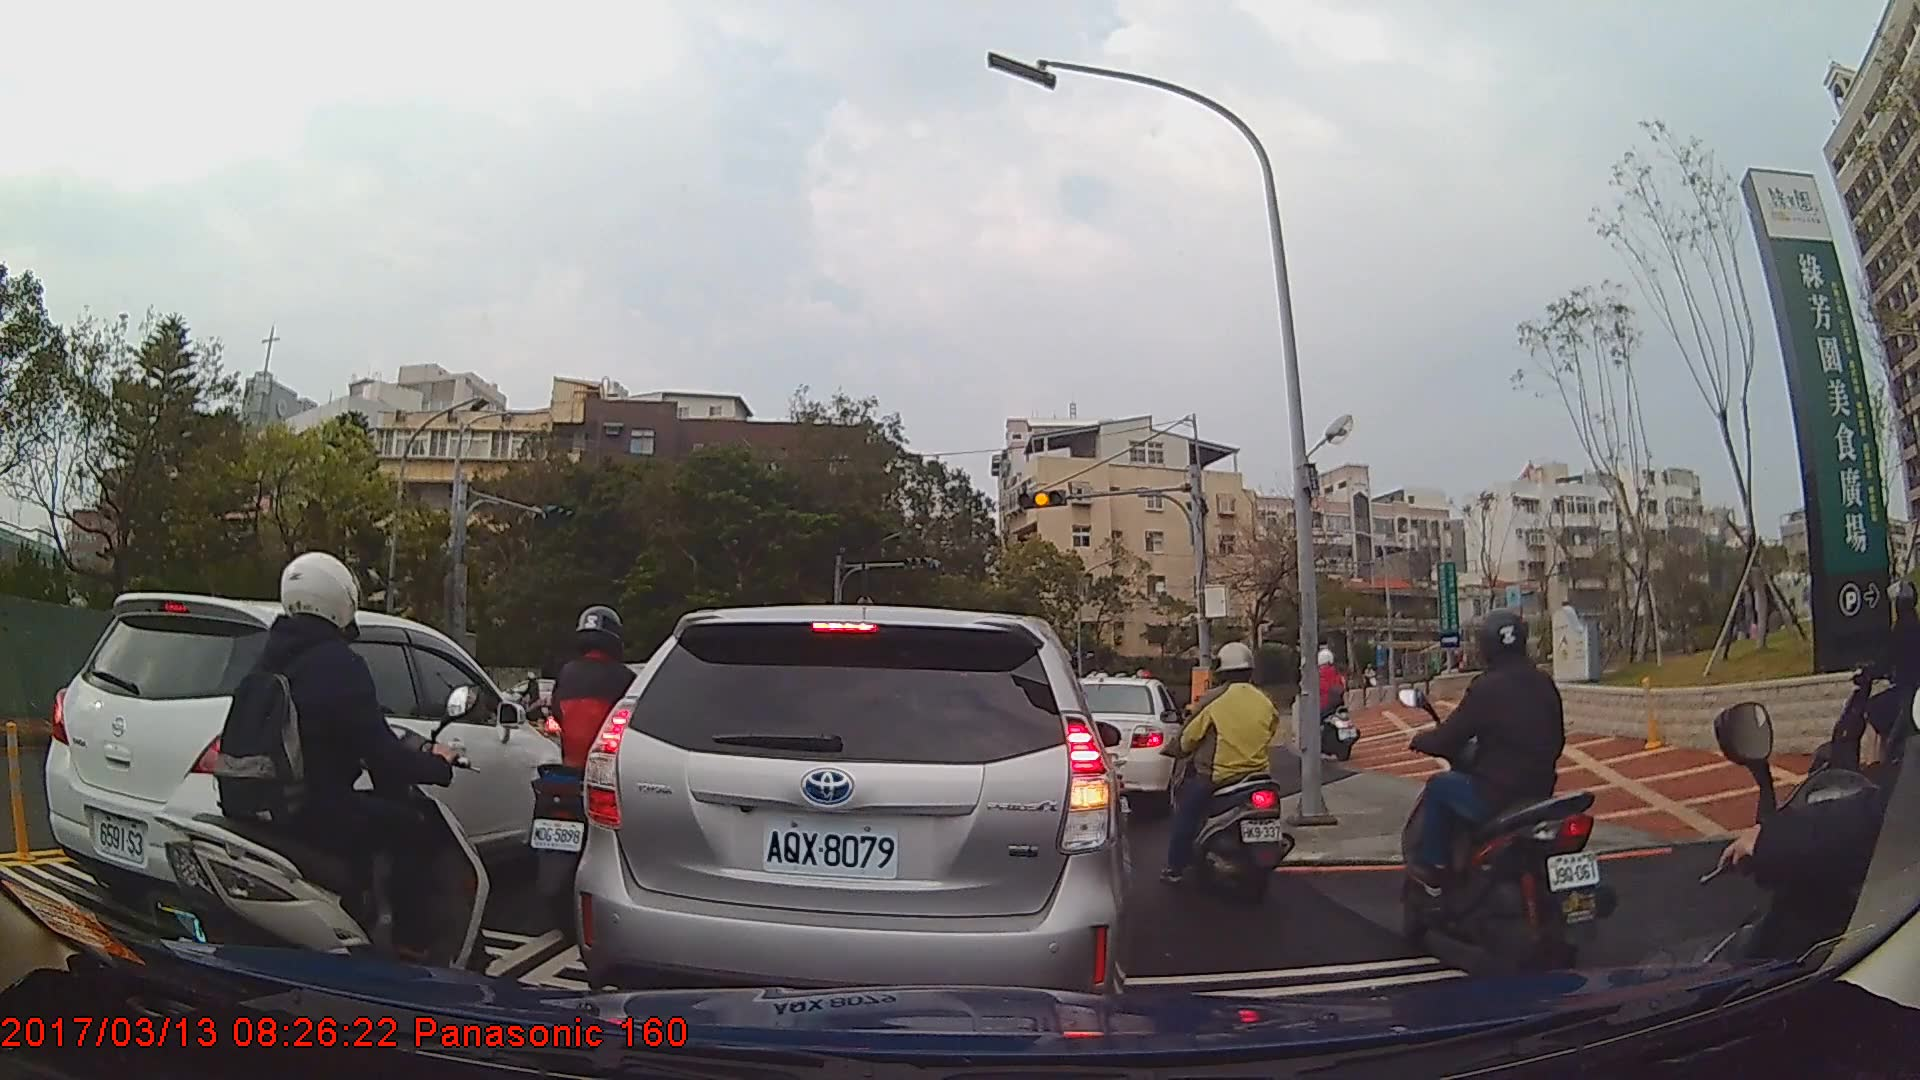pedestrian: (1740, 564, 1782, 642), (1733, 578, 1768, 644)
rider: (163, 548, 493, 1017), (1390, 606, 1612, 977), (526, 605, 668, 930), (1162, 638, 1294, 897), (1801, 574, 1920, 805), (1292, 644, 1362, 760)
vehicle: (569, 603, 1132, 1031), (41, 591, 573, 926), (1066, 673, 1191, 810)
